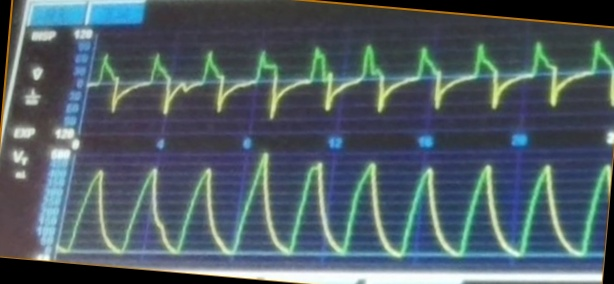Premature_cycling Flow: (96, 38, 614, 129)
Premature_cycling Volume: (74, 155, 602, 262)
